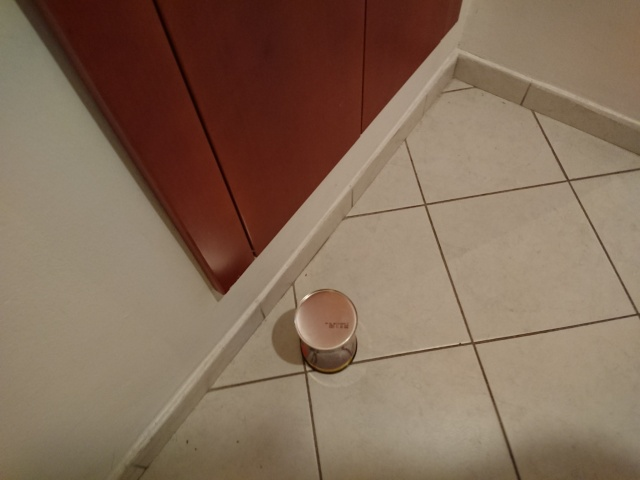Nescafe Classic 225g: (291, 286, 362, 378)
